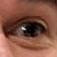eye: (24, 25, 38, 37)
